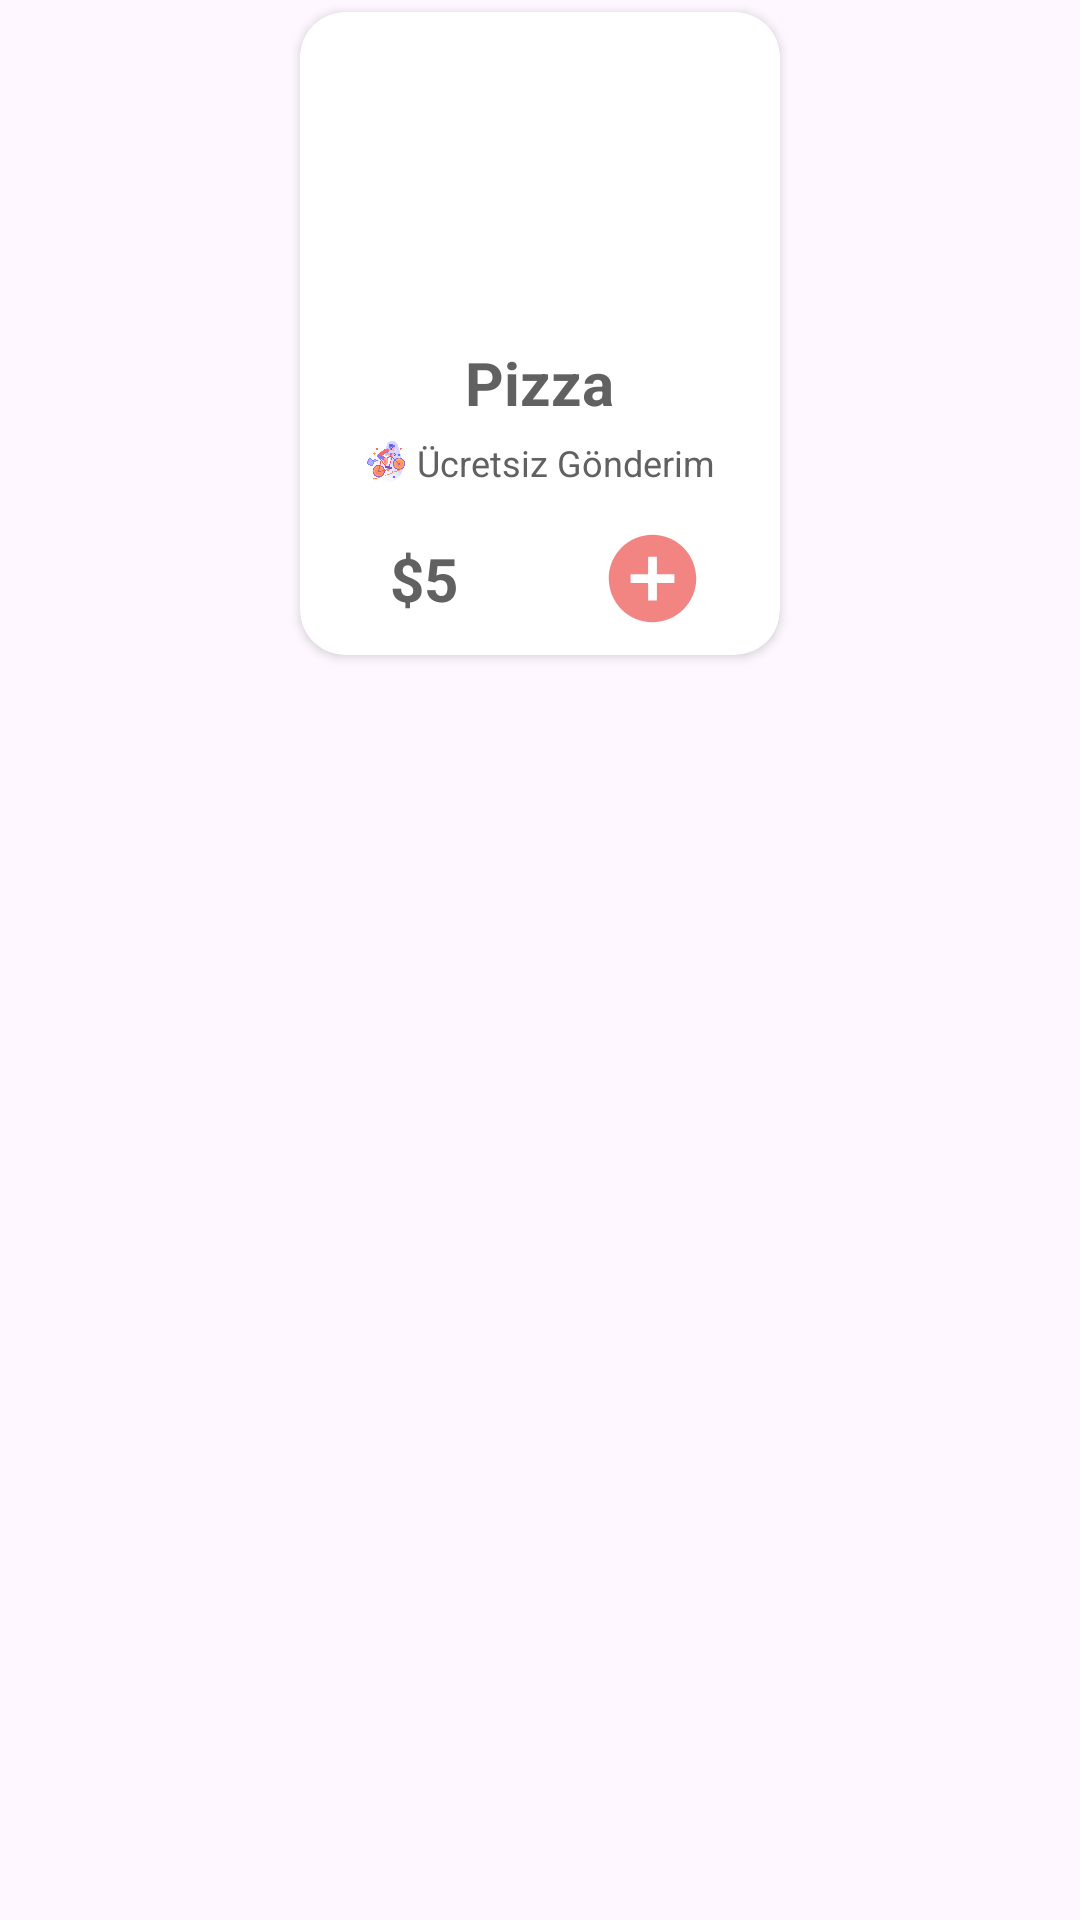

Screen size 1080 × 1920. Icon name, then its box in pixels as (x1, y1, x2, y2):
add circle: (608, 534, 697, 623)
cyclocross: (367, 441, 405, 480)
